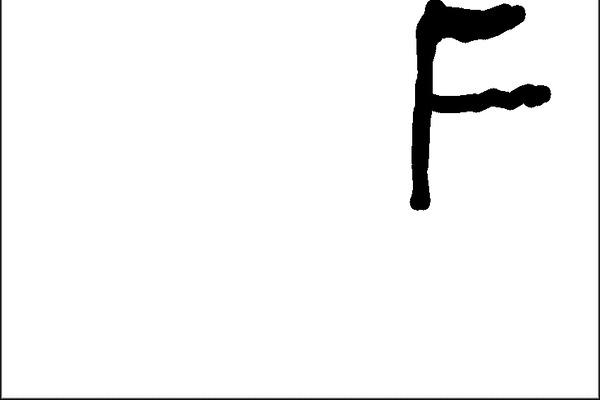F: (400, 2, 555, 214)
